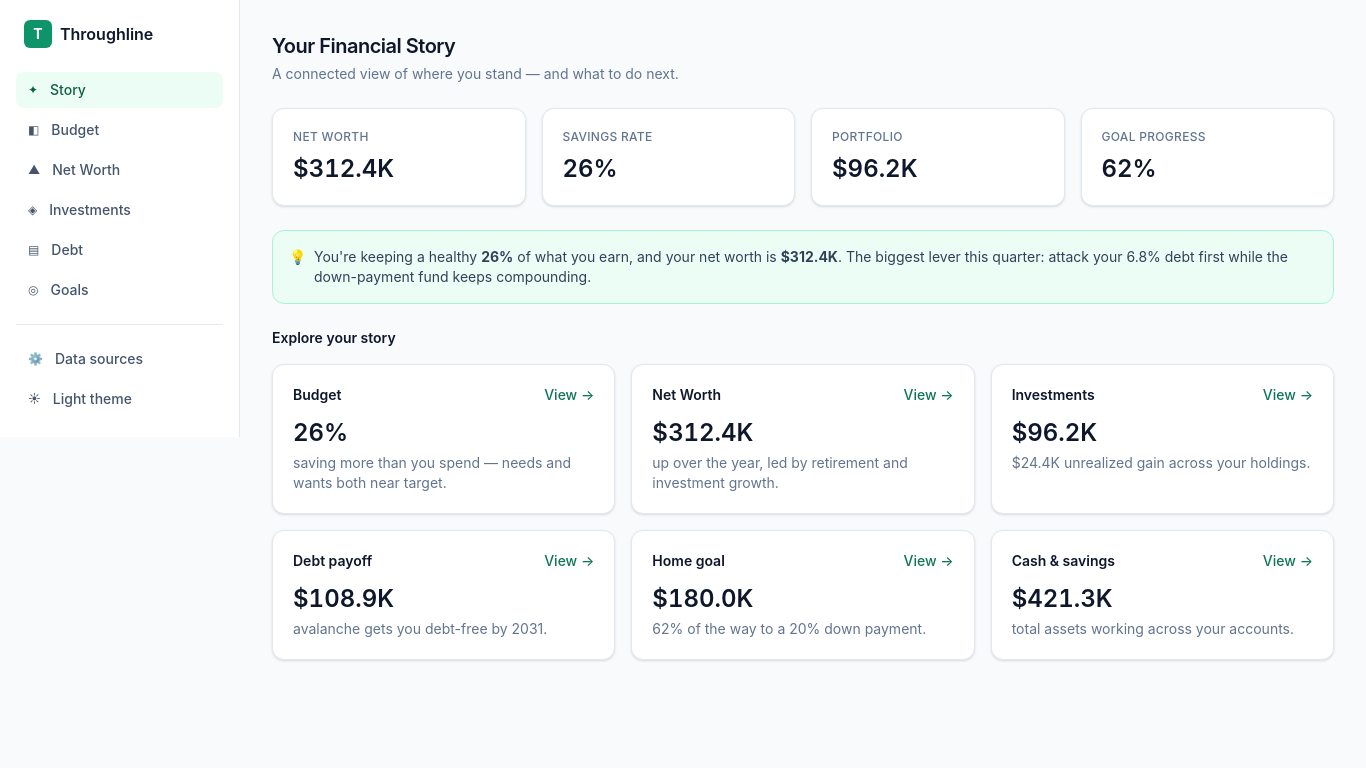
Test: App shell › navigates to another screen when a nav link is clicked
Click the link "▤ Debt" at coordinates (56, 250), box [28,241,83,258]
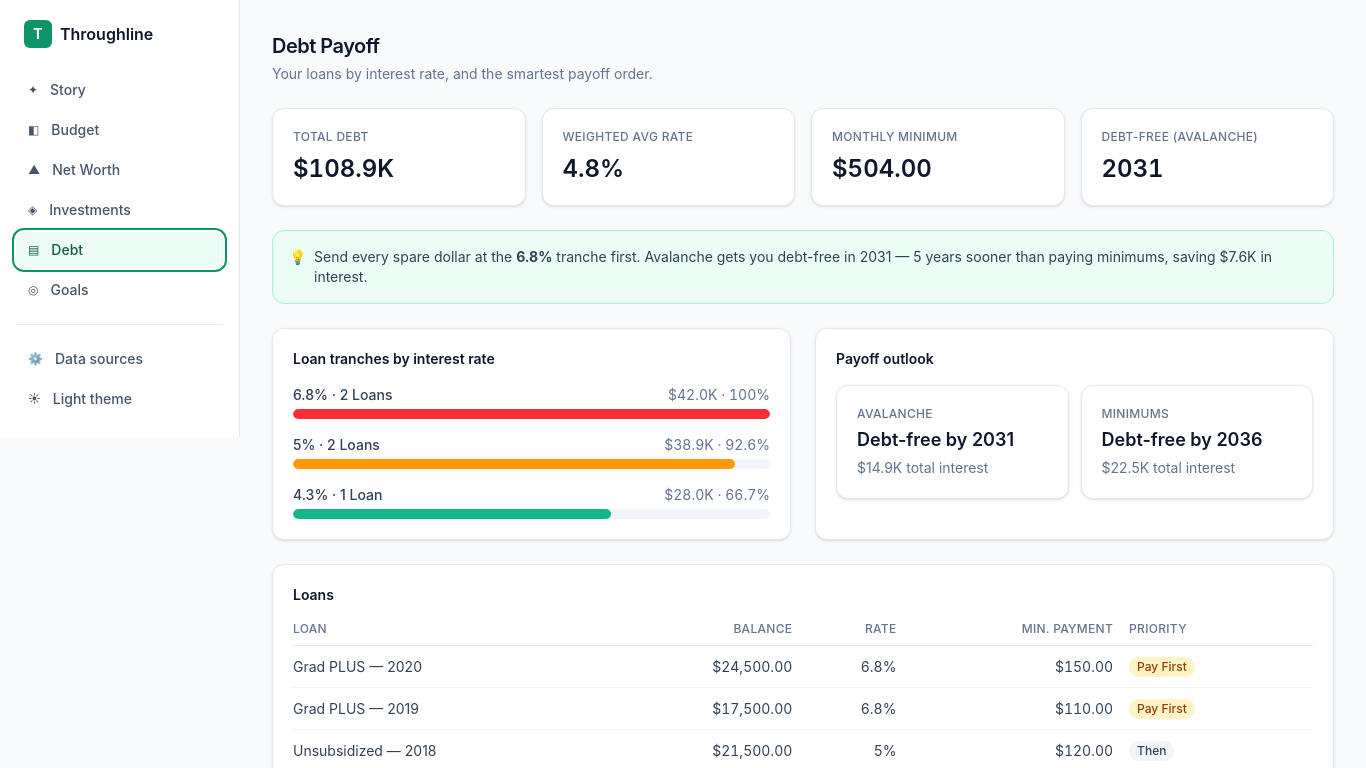
Now the heading "Debt Payoff" is shown, box [272,34,380,58]
